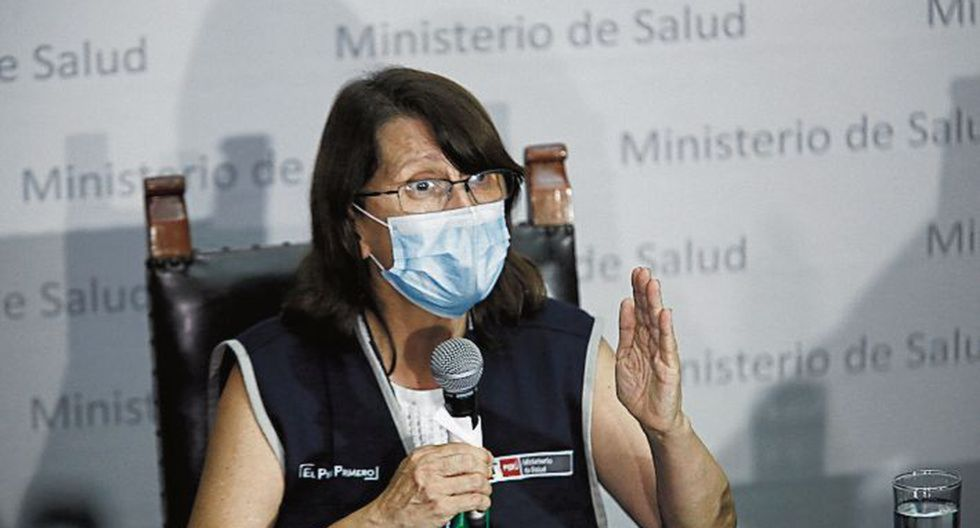with_mask: (338, 100, 550, 335)
